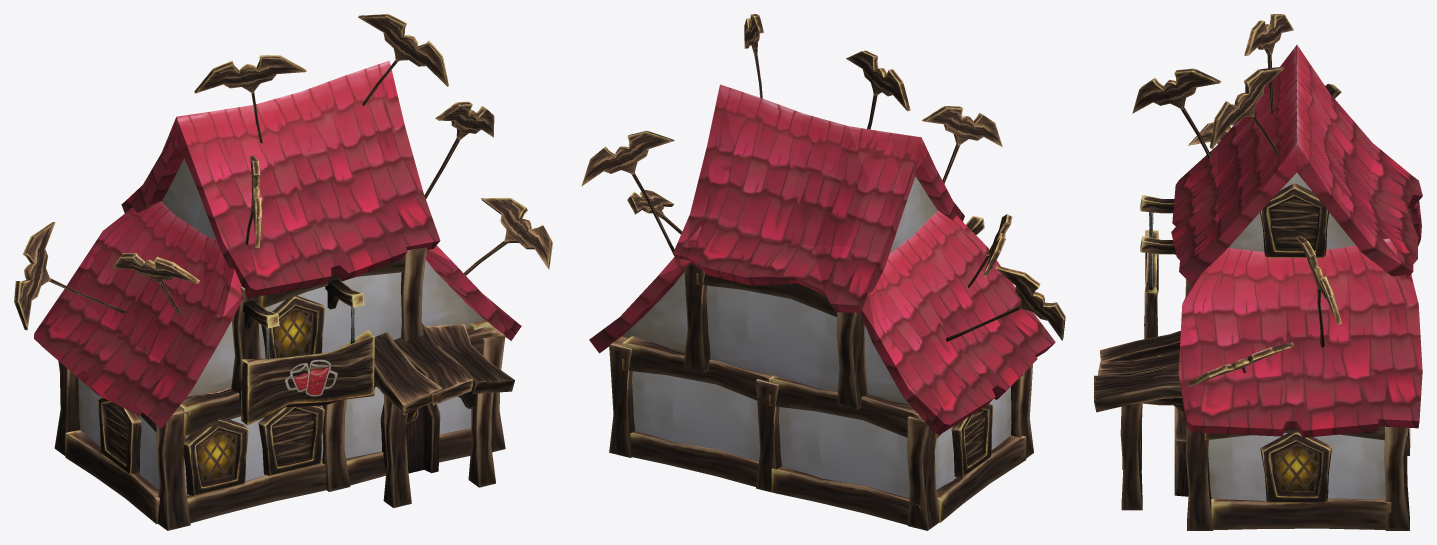
File: Vampire_Village_Building_04.FBX
The picture shows the model from 3 angles, left to right: view 1: azimuth 30°, elevation 25°; view 2: azimuth 150°, elevation 25°; view 3: azimuth 270°, elevation 25°; orthographic projection. The views are drawn at different scales.
Parts seen in each view (by area): view 1: Vampire_Village_Building_04; view 2: Vampire_Village_Building_04; view 3: Vampire_Village_Building_04.
Boxes of the visible parts, <box> form: Vampire_Village_Building_04: <box>14,14,552,530</box>; Vampire_Village_Building_04: <box>581,14,1065,530</box>; Vampire_Village_Building_04: <box>1094,14,1422,530</box>.
Size of the model in its own units: 1121 by 923 by 653.
